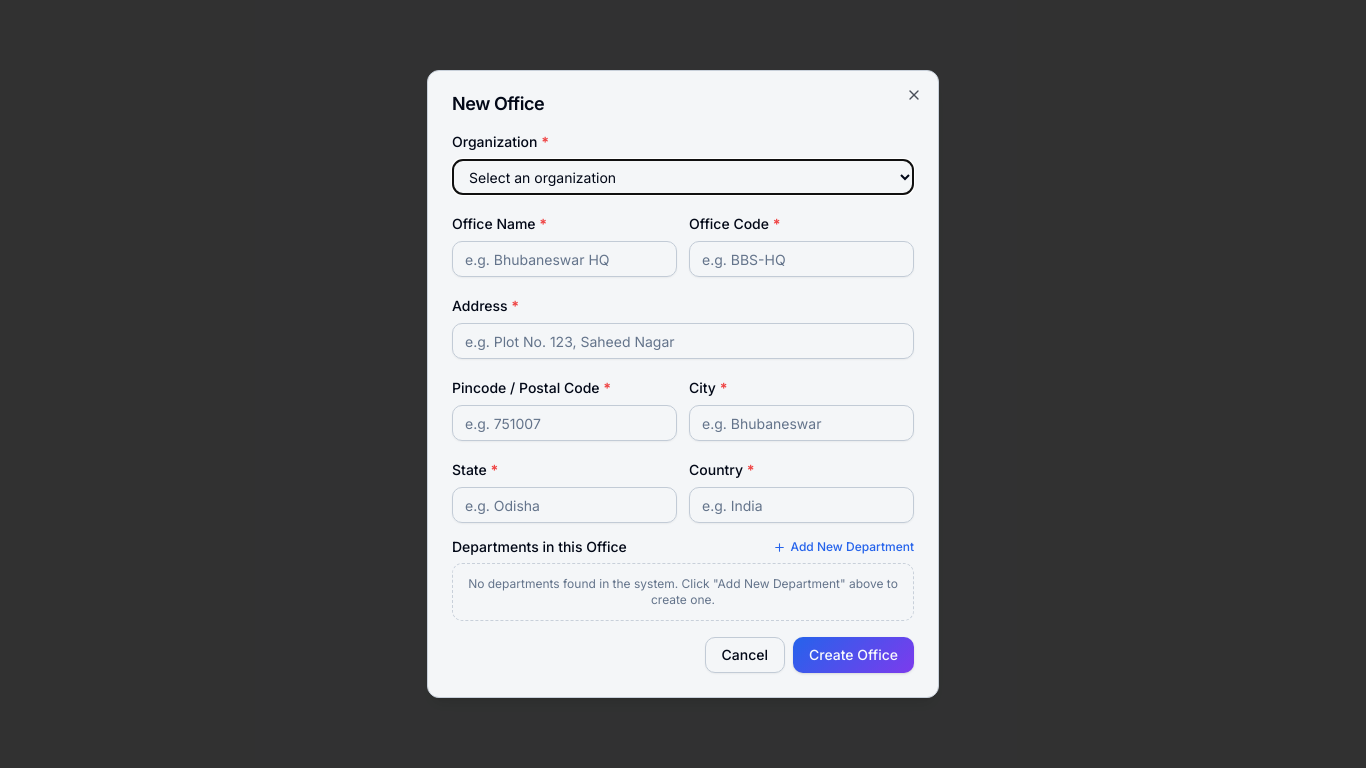
OfficeFormDialog address fields › fills city, state and country from the PIN code
Type "751007" into the field labelled "Pincode / Postal Code *" at (564, 423), box [452,405,677,441]
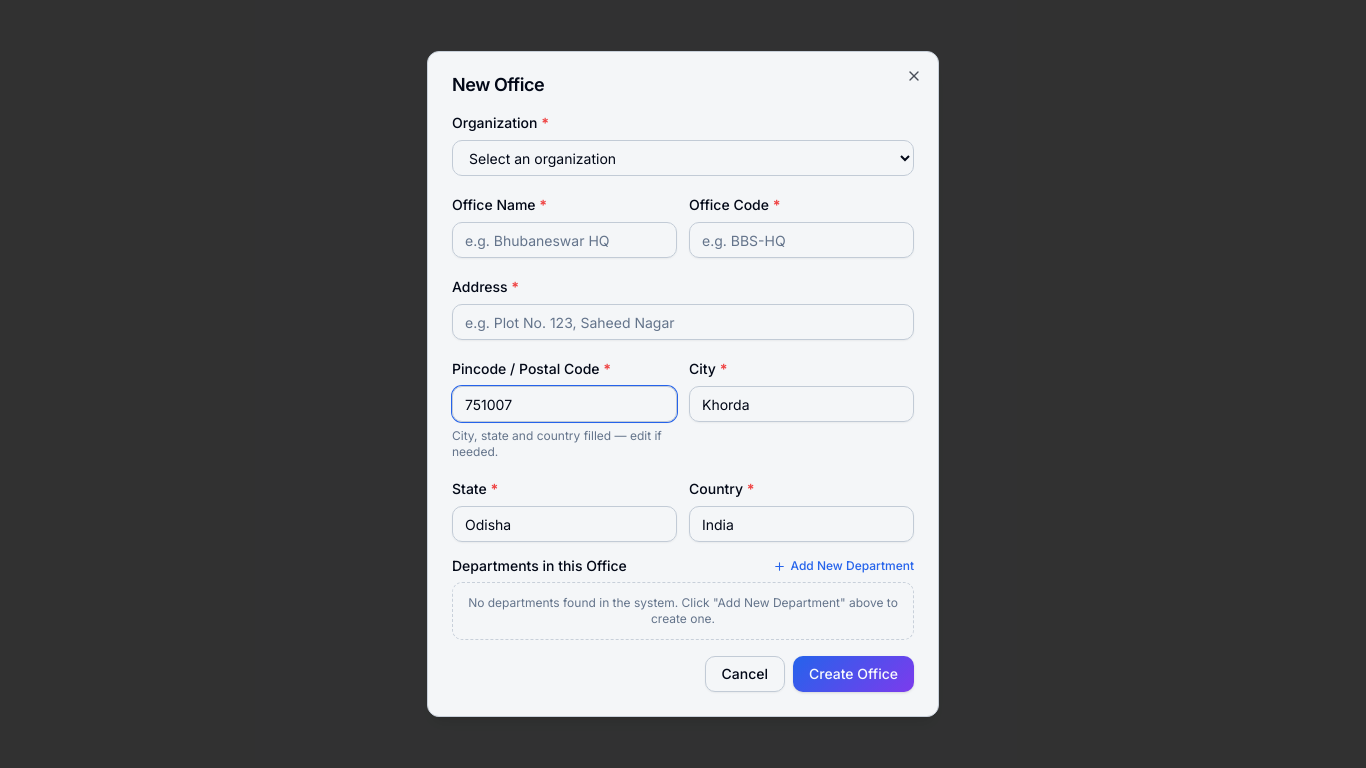
Expected: the field labelled "City *" holds "Khorda", [689,386,914,422]
Expected: the field labelled "State *" holds "Odisha", [452,506,677,542]
Expected: the field labelled "Country *" holds "India", [689,506,914,542]
